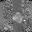people: (12, 12, 22, 24)
